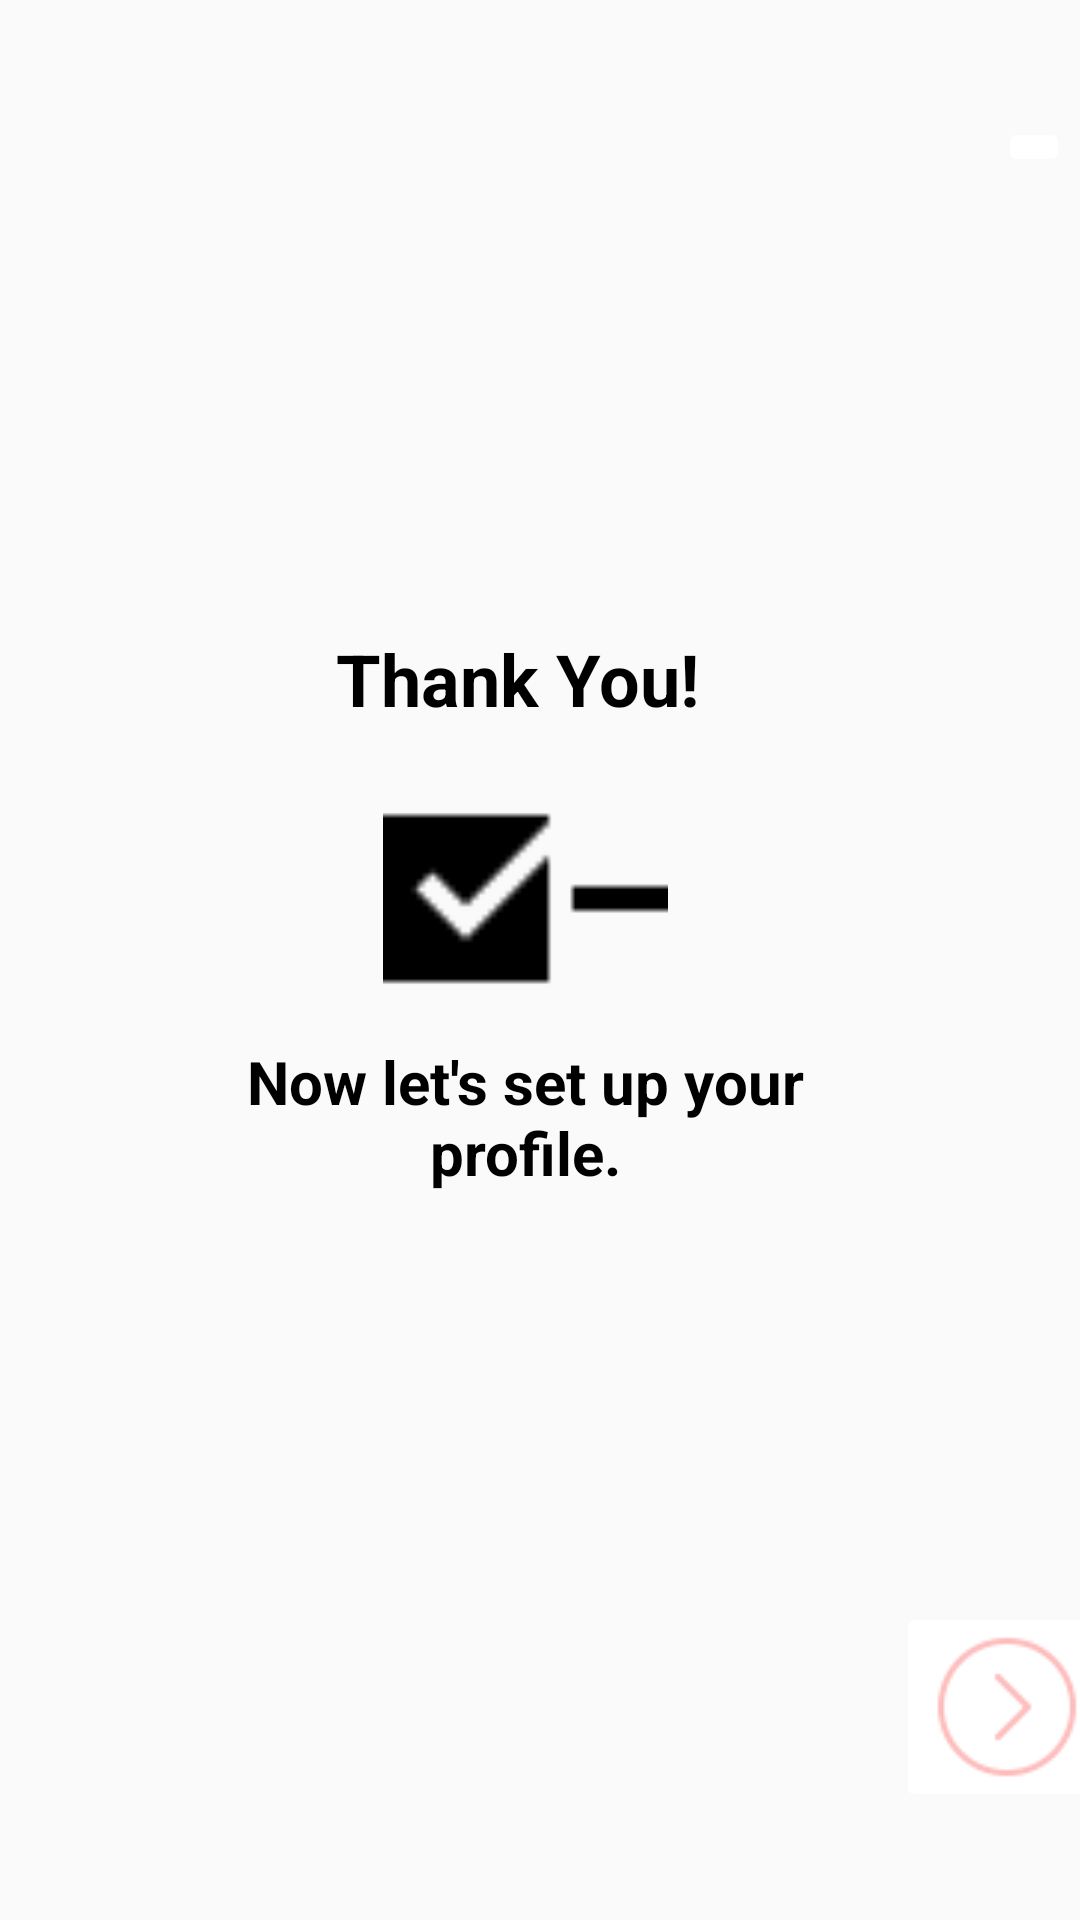

Where icons sit on this 1080px×1920px app screen, as {"left": x1, "top": y1, "right": x2, "bottom": y2}:
checkbox: {"left": 383, "top": 813, "right": 668, "bottom": 984}
